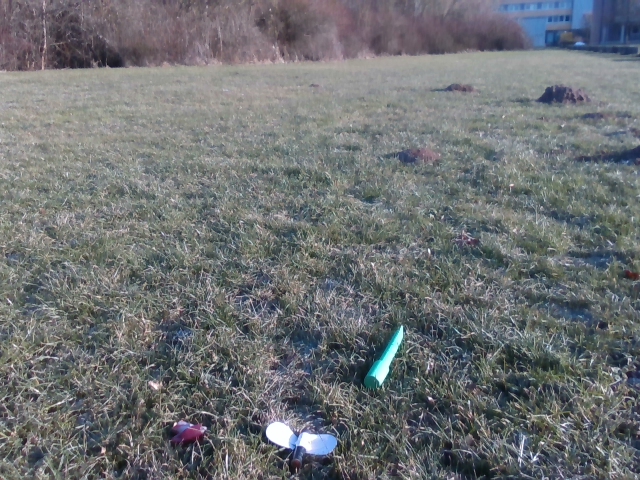Probe: (362, 315, 412, 393)
